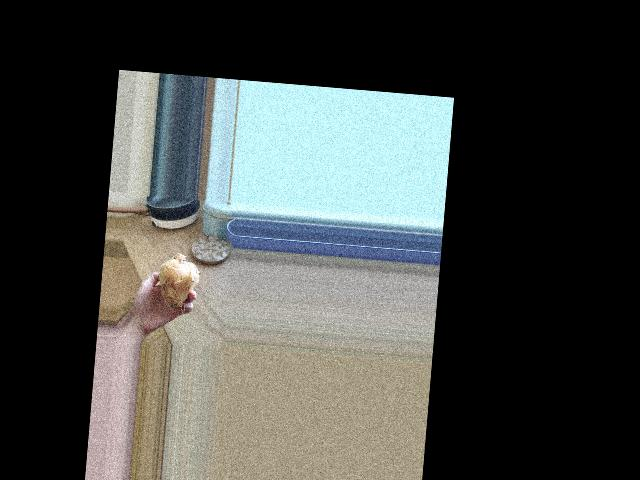onion: (155, 254, 202, 313)
